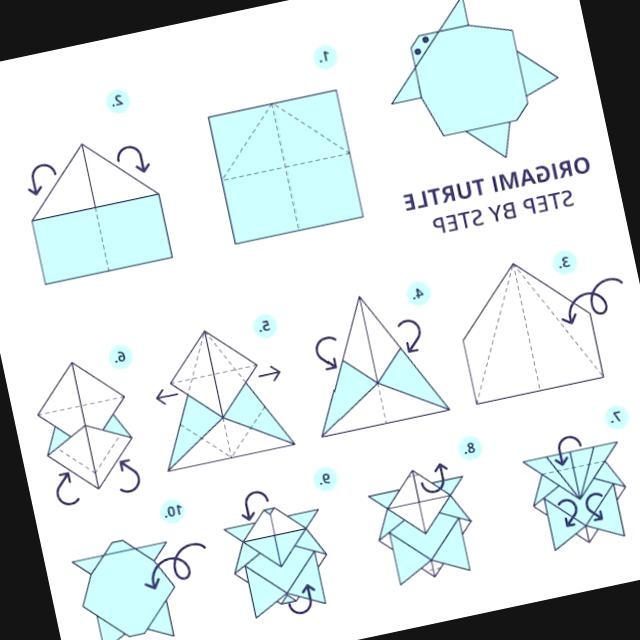arrow: (561, 278, 621, 325), (144, 543, 205, 589), (116, 146, 148, 173), (28, 164, 55, 195), (287, 585, 314, 615), (396, 320, 420, 353), (55, 473, 79, 506), (314, 337, 337, 371), (420, 464, 446, 493), (242, 491, 267, 521), (555, 436, 580, 466), (119, 460, 139, 493), (557, 499, 577, 527), (584, 493, 602, 521), (156, 389, 177, 405), (259, 366, 280, 382)
fold-line: (508, 262, 604, 379), (473, 264, 517, 405), (215, 147, 358, 186), (266, 98, 306, 234), (507, 258, 545, 398), (76, 138, 114, 277), (200, 328, 236, 462), (221, 100, 276, 182), (268, 101, 349, 154), (201, 331, 246, 387), (33, 394, 122, 419), (168, 362, 258, 386), (176, 421, 229, 458), (229, 408, 265, 459), (537, 457, 609, 478), (183, 331, 205, 396), (92, 434, 120, 474), (56, 446, 92, 473)
